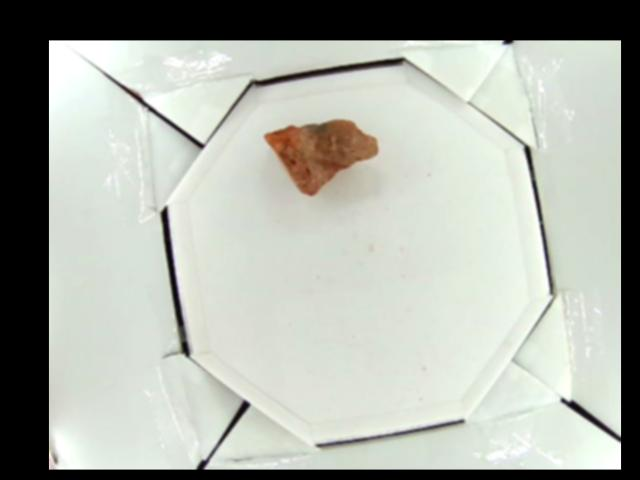Brisk: (263, 119, 377, 196)
